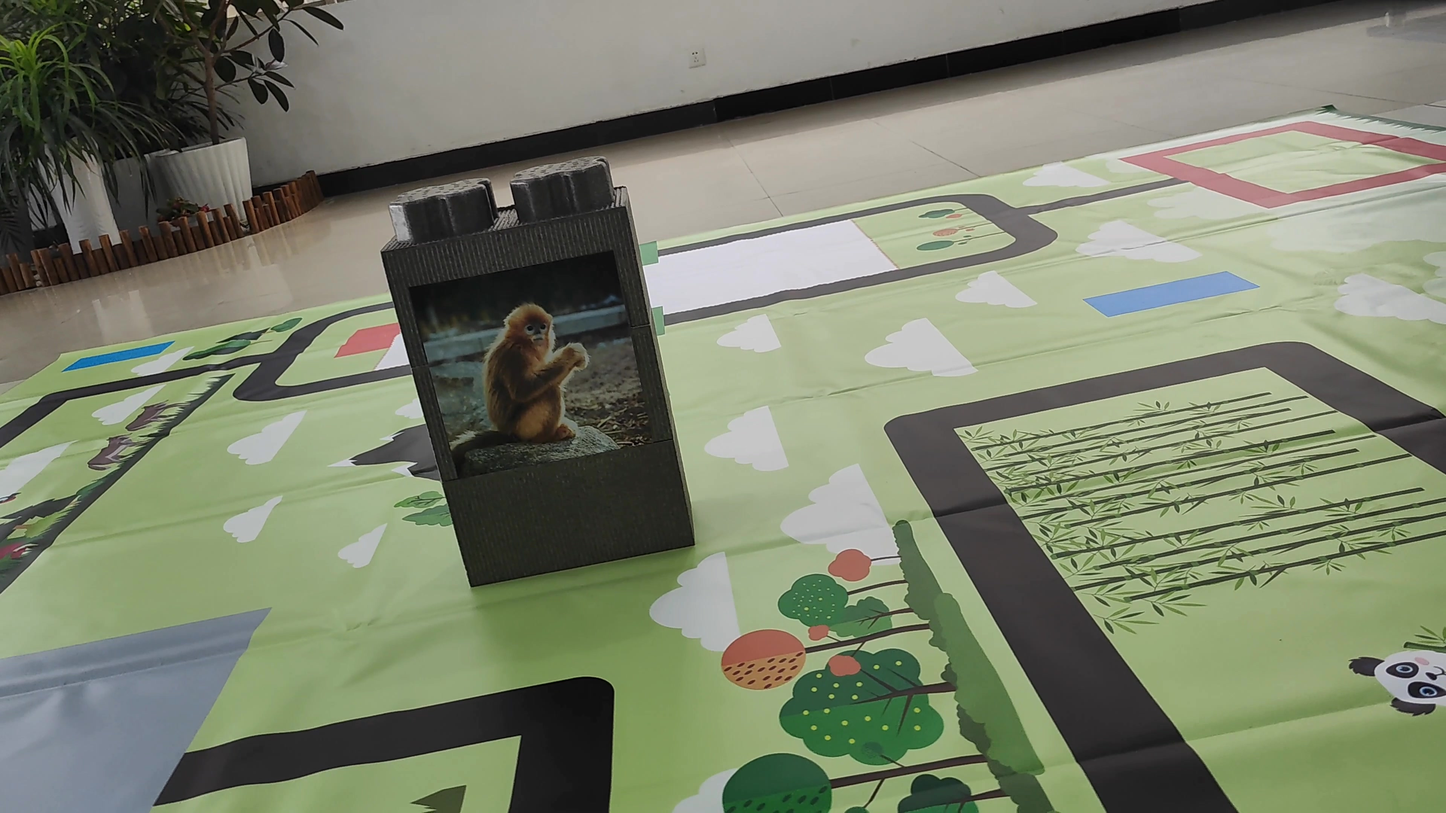monkey: (445, 274, 643, 467)
